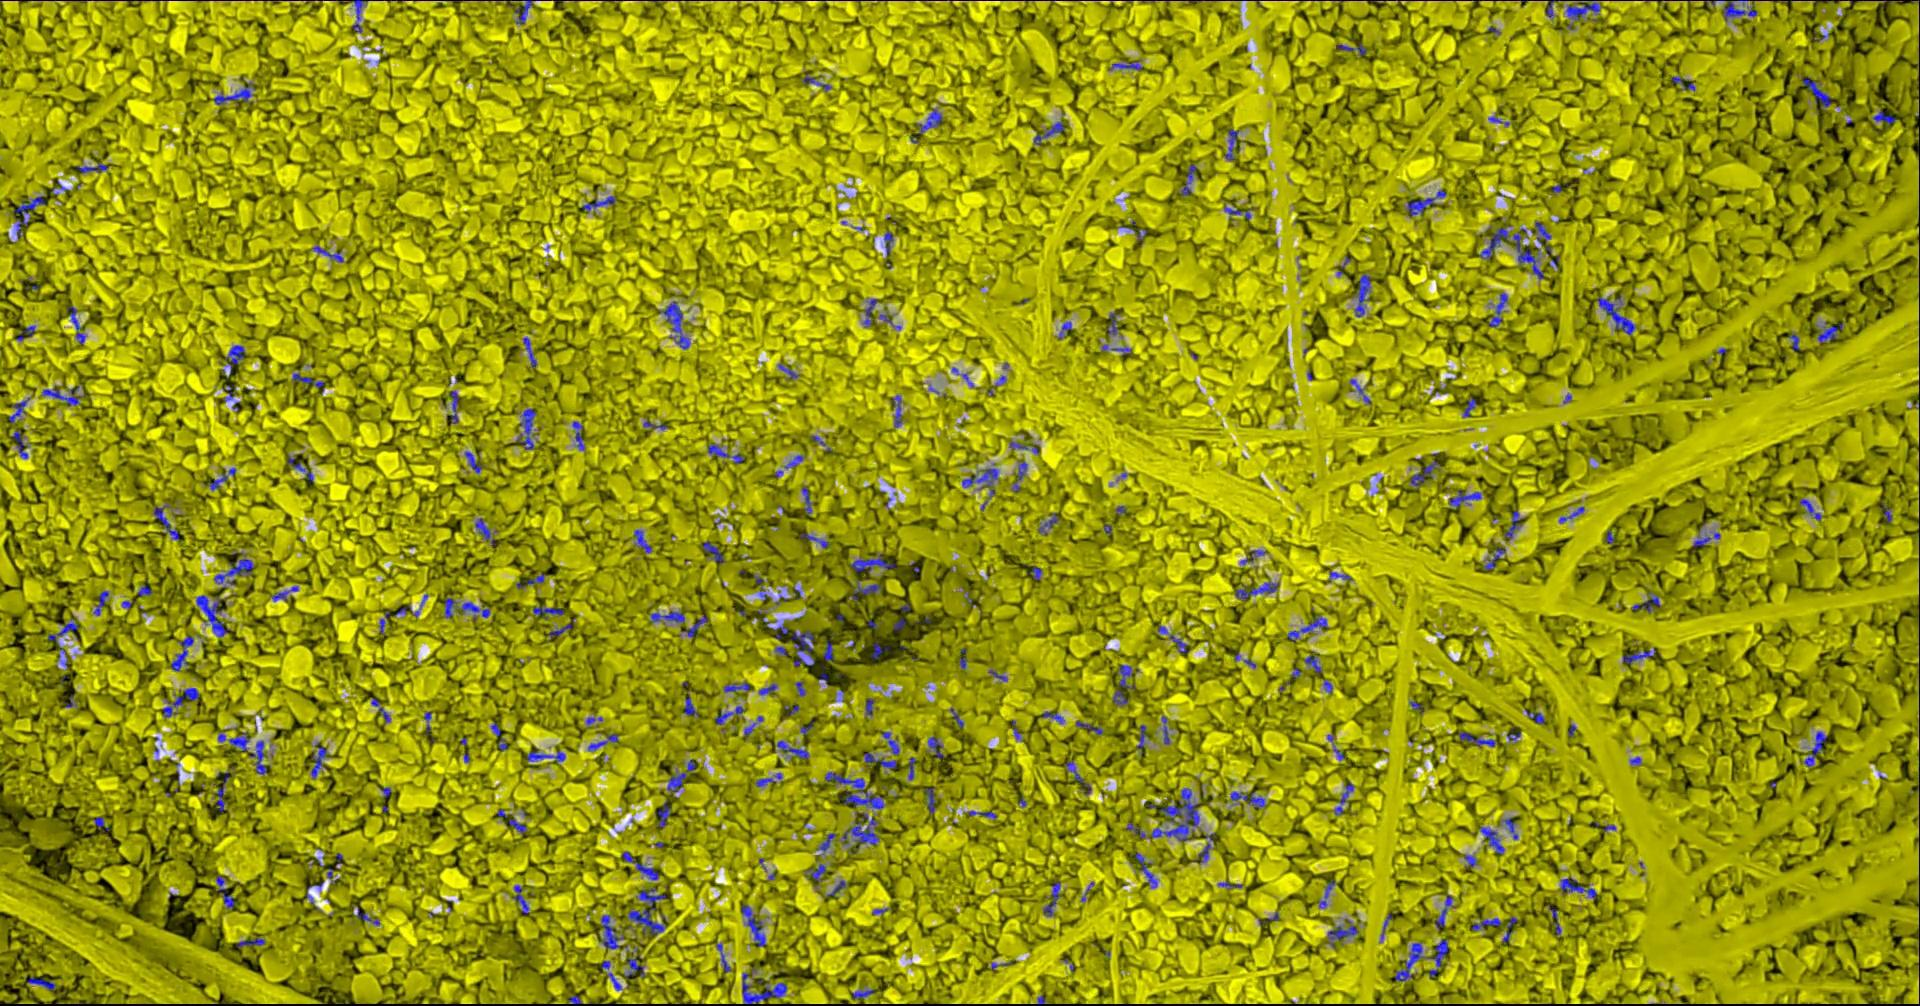ant: (1478, 226, 1543, 278), (1150, 788, 1199, 840), (824, 771, 884, 808), (629, 887, 665, 934), (657, 300, 690, 348), (742, 972, 786, 1005), (1597, 296, 1636, 334), (196, 594, 229, 636), (13, 196, 44, 238), (961, 464, 997, 497), (1703, 0, 1756, 22), (213, 558, 253, 587), (842, 812, 877, 843), (1394, 942, 1423, 981), (161, 687, 198, 716), (621, 851, 658, 879), (740, 904, 764, 946), (1407, 189, 1446, 215), (1288, 615, 1327, 640), (444, 598, 489, 620), (213, 83, 254, 105), (1112, 664, 1135, 705), (1327, 918, 1357, 948), (152, 506, 179, 539), (790, 630, 814, 666), (1802, 76, 1831, 105), (1065, 760, 1090, 794), (850, 555, 895, 573), (1803, 730, 1826, 766), (41, 385, 80, 405), (599, 915, 623, 948), (1559, 876, 1596, 898), (170, 635, 193, 669), (1410, 459, 1439, 485), (516, 408, 535, 448), (1427, 939, 1448, 977), (707, 443, 744, 464), (1236, 582, 1277, 600), (1134, 852, 1156, 887), (1191, 832, 1215, 862), (1032, 121, 1064, 144), (1564, 0, 1600, 20), (1354, 273, 1370, 316), (249, 741, 270, 774), (287, 453, 312, 481), (514, 0, 543, 24), (47, 619, 77, 641), (916, 108, 942, 133), (67, 305, 85, 343), (1479, 826, 1503, 854), (1487, 293, 1507, 326), (215, 771, 231, 810), (474, 517, 495, 546), (599, 960, 621, 989), (310, 741, 326, 779), (215, 875, 234, 908), (223, 345, 244, 376), (1043, 882, 1060, 916), (348, 0, 367, 32), (292, 373, 323, 392), (210, 467, 235, 490), (714, 705, 744, 724), (1230, 791, 1265, 808), (1435, 894, 1451, 929), (1180, 164, 1197, 196), (1449, 489, 1481, 507), (217, 732, 249, 749), (776, 741, 808, 758), (1335, 782, 1352, 814), (1458, 730, 1495, 746), (8, 398, 29, 423), (681, 615, 706, 636), (1534, 221, 1550, 254), (863, 752, 897, 768), (1691, 528, 1719, 547), (311, 245, 343, 262), (1349, 379, 1370, 403), (1503, 511, 1521, 540), (1630, 594, 1660, 612), (1817, 323, 1843, 343), (582, 196, 615, 211), (850, 583, 880, 600), (1622, 648, 1655, 663), (587, 733, 617, 749), (526, 749, 565, 762), (370, 697, 390, 721), (1012, 460, 1027, 492), (1799, 498, 1821, 520), (1483, 547, 1505, 569), (805, 862, 825, 885), (803, 74, 830, 90), (490, 721, 507, 749), (632, 528, 651, 553), (513, 885, 528, 915), (715, 942, 730, 972), (1224, 128, 1238, 160), (1223, 205, 1255, 218), (1501, 916, 1517, 942), (623, 955, 644, 977), (354, 907, 378, 925), (522, 337, 536, 367), (11, 431, 27, 459), (799, 533, 829, 547), (270, 586, 298, 601), (532, 605, 563, 619), (1319, 879, 1335, 907), (1558, 506, 1583, 522), (702, 541, 723, 561), (1037, 512, 1057, 533), (817, 832, 836, 854), (25, 976, 55, 989), (881, 730, 898, 754), (650, 611, 684, 622), (863, 298, 877, 326), (516, 573, 543, 587), (1336, 42, 1366, 55), (93, 589, 108, 615), (463, 451, 481, 473), (1303, 652, 1321, 673), (1076, 720, 1102, 734), (571, 420, 584, 450), (1010, 441, 1039, 453), (1239, 550, 1265, 564), (756, 772, 781, 786), (1671, 76, 1694, 91), (927, 735, 942, 758), (1170, 634, 1189, 652), (667, 772, 684, 791), (657, 800, 669, 827), (825, 879, 844, 897), (547, 622, 571, 636), (1548, 904, 1559, 934), (1470, 918, 1500, 930), (891, 395, 902, 427), (1872, 111, 1895, 124), (684, 694, 698, 716), (1503, 817, 1517, 840), (1125, 822, 1144, 838), (76, 163, 107, 173), (1524, 708, 1544, 723), (1135, 724, 1145, 754), (236, 937, 265, 948), (1109, 61, 1142, 70), (450, 390, 458, 423), (871, 641, 889, 658), (15, 325, 34, 340), (923, 788, 935, 813), (801, 486, 811, 514), (723, 681, 749, 691), (508, 818, 526, 833), (1462, 398, 1476, 417), (783, 455, 804, 467), (772, 622, 787, 639), (1161, 715, 1170, 743), (1106, 312, 1117, 334), (1879, 500, 1891, 522), (1041, 711, 1063, 723), (1328, 570, 1352, 580), (93, 815, 108, 831), (883, 231, 891, 257), (1058, 321, 1070, 339), (222, 384, 235, 401), (968, 810, 996, 818), (1544, 0, 1557, 17), (823, 640, 833, 661), (1787, 333, 1798, 351), (907, 756, 916, 779), (1026, 567, 1041, 579), (852, 989, 874, 998), (758, 683, 776, 694), (1463, 854, 1476, 868), (137, 584, 151, 596), (865, 697, 872, 715)
